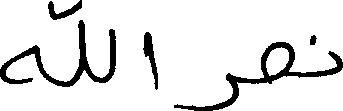X: (175, 68, 236, 110), (0, 40, 36, 88), (261, 37, 292, 88), (144, 27, 156, 94), (331, 47, 342, 79), (80, 0, 84, 80), (110, 24, 113, 83)
